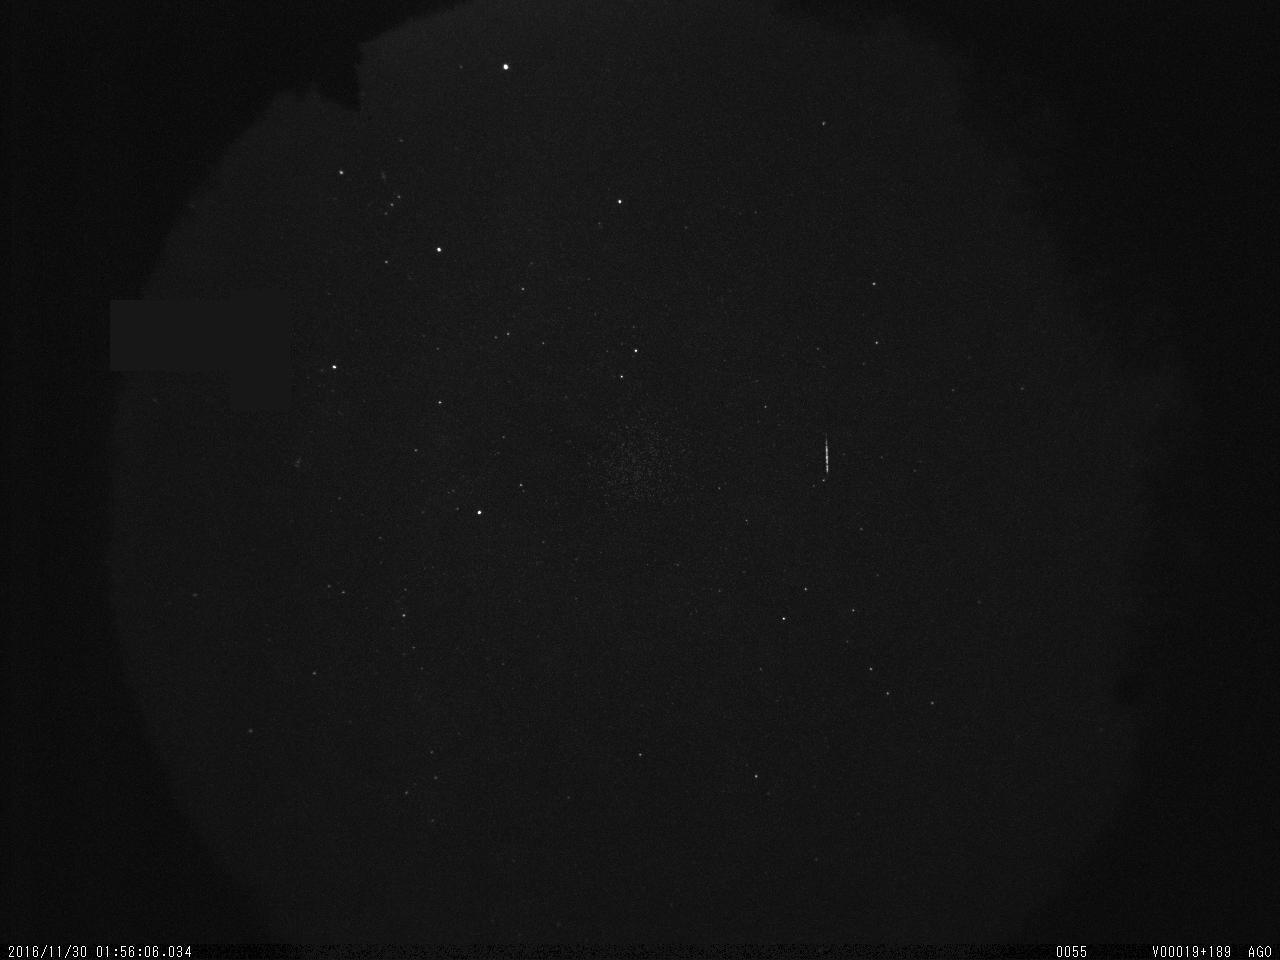meteor: (795, 416, 851, 499)
